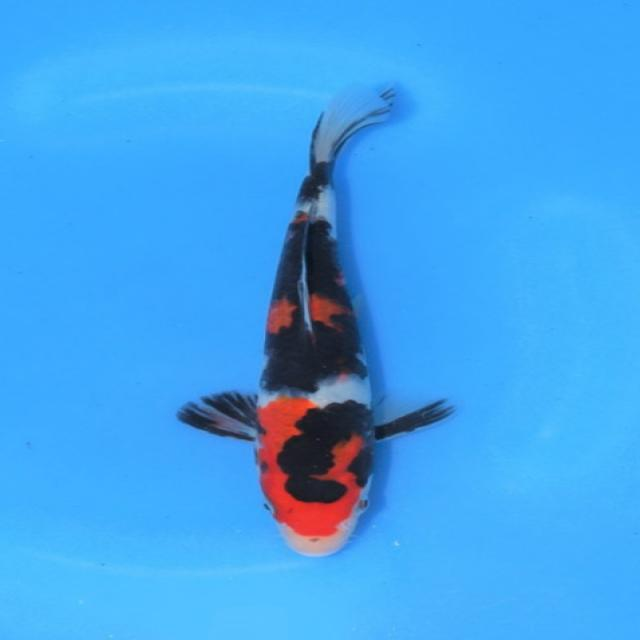Sanke: (176, 80, 457, 558)
